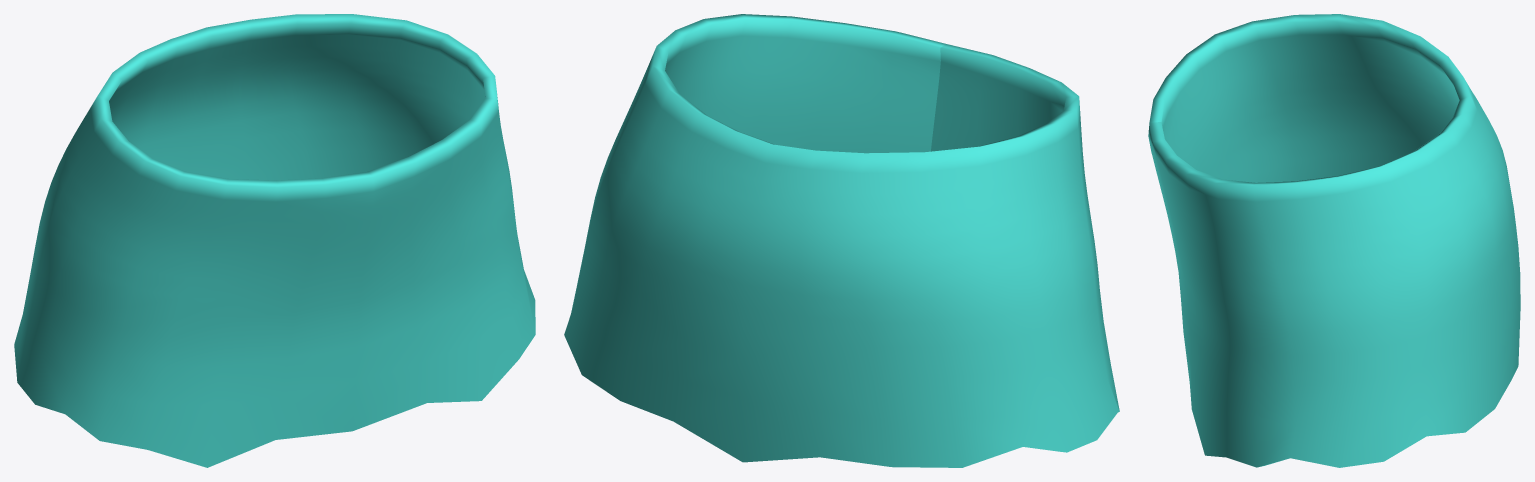
Rendered from broek character.fbx.
The picture shows the model from 3 angles, left to right: view 1: azimuth 30°, elevation 25°; view 2: azimuth 150°, elevation 25°; view 3: azimuth 270°, elevation 25°; orthographic projection. The views are drawn at different scales.
Visible parts, largest first — view 1: Plane; view 2: Plane; view 3: Plane.
Boxes of the visible parts, x1=… form: Plane: x1=14, y1=14, x2=535, y2=467; Plane: x1=564, y1=14, x2=1119, y2=467; Plane: x1=1148, y1=14, x2=1520, y2=467.
Bounding box in the file's own units: 0.5273 × 0.3256 × 0.368.
